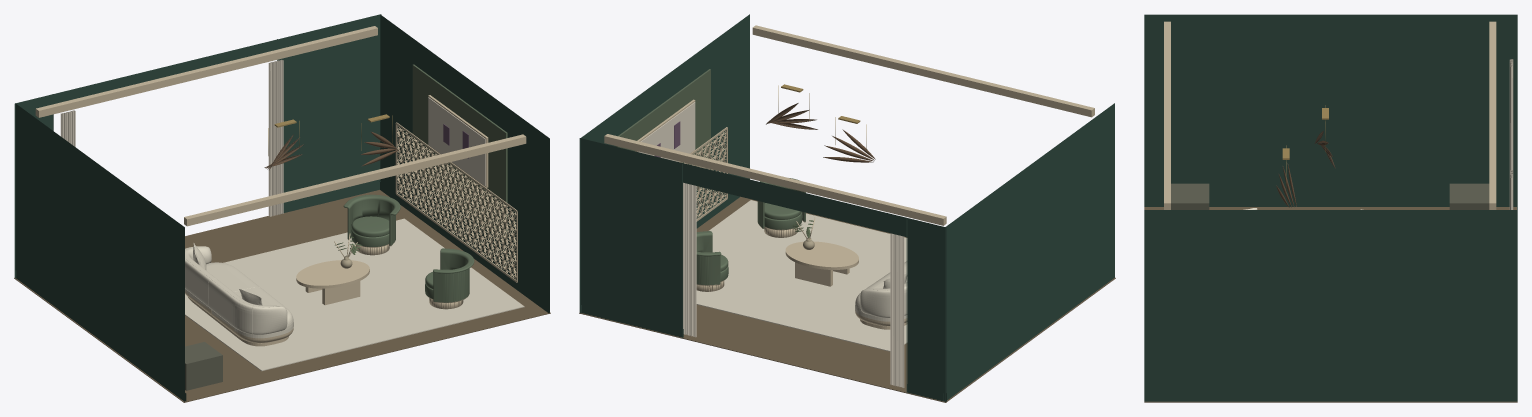
Rendered from great-3.glb.
The picture shows the model from 3 angles, left to right: view 1: azimuth 30°, elevation 25°; view 2: azimuth 150°, elevation 25°; view 3: azimuth 270°, elevation 25°; orthographic projection. The views are drawn at different scales.
Parts seen in each view (by area): view 1: DESIGN | great removable wall finish, DESIGN | Great room primary ground, DESIGN | great floor finish, DESIGN | Kumiko | Great room low craft datum, DESIGN | Great room sofa facing conversation, DESIGN | Garden salon fabric wall field, DESIGN | Garden salon perimeter timber, DESIGN | Garden salon perimeter timber.001, DESIGN | Required Bellustar swivel chair two, DESIGN | Textile artwork.002, DESIGN | Required Bellustar swivel chair one, DESIGN | Great room soft window edge.001 (+5 smaller); view 2: DESIGN | great removable wall finish, DESIGN | Great room primary ground, DESIGN | great floor finish, DESIGN | Garden salon perimeter timber.001, DESIGN | Garden salon perimeter timber, DESIGN | Garden salon fabric wall field, DESIGN | Great room soft window edge, DESIGN | Great room soft window edge.001, DESIGN | Great room sofa facing conversation, DESIGN | Great room conversation table top, DESIGN | Required Bellustar swivel chair two, DESIGN | Textile artwork.002 (+5 smaller); view 3: DESIGN | great removable wall finish, DESIGN | great floor finish, DESIGN | Garden salon perimeter timber.001, DESIGN | Garden salon perimeter timber, DESIGN | Great room low stone display.001, DESIGN | Great room low stone display, DESIGN | Great room soft window edge, DESIGN | Required Flou pendant 2.
Boxes of the visible parts, x1,y1,x2,y2 form: DESIGN | great removable wall finish: (14, 14, 549, 401); DESIGN | Great room primary ground: (185, 218, 524, 371); DESIGN | great floor finish: (14, 190, 550, 402); DESIGN | Kumiko | Great room low craft datum: (395, 122, 517, 282); DESIGN | Great room sofa facing conversation: (185, 243, 293, 346); DESIGN | Garden salon fabric wall field: (412, 64, 507, 242); DESIGN | Garden salon perimeter timber: (184, 134, 526, 226); DESIGN | Garden salon perimeter timber.001: (35, 26, 377, 117); DESIGN | Required Bellustar swivel chair two: (343, 194, 400, 255); DESIGN | Textile artwork.002: (428, 97, 485, 186); DESIGN | Required Bellustar swivel chair one: (425, 248, 474, 309); DESIGN | Great room soft window edge.001: (268, 59, 283, 216); DESIGN | great removable wall finish: (579, 14, 1114, 401); DESIGN | Great room primary ground: (696, 200, 907, 351); DESIGN | great floor finish: (579, 196, 1115, 402); DESIGN | Garden salon perimeter timber.001: (604, 134, 946, 225); DESIGN | Garden salon perimeter timber: (752, 25, 1094, 117); DESIGN | Garden salon fabric wall field: (616, 69, 710, 189); DESIGN | Great room soft window edge: (890, 233, 904, 387); DESIGN | Great room soft window edge.001: (683, 182, 696, 337); DESIGN | Great room sofa facing conversation: (855, 261, 907, 329); DESIGN | Great room conversation table top: (785, 241, 858, 269); DESIGN | Required Bellustar swivel chair two: (696, 231, 728, 291); DESIGN | Textile artwork.002: (638, 102, 695, 161); DESIGN | great removable wall finish: (1144, 14, 1517, 401); DESIGN | great floor finish: (1144, 207, 1517, 402); DESIGN | Garden salon perimeter timber.001: (1489, 21, 1496, 209); DESIGN | Garden salon perimeter timber: (1164, 21, 1170, 209); DESIGN | Great room low stone display.001: (1449, 183, 1489, 209); DESIGN | Great room low stone display: (1171, 183, 1209, 209); DESIGN | Great room soft window edge: (1509, 59, 1513, 170); DESIGN | Required Flou pendant 2: (1276, 163, 1296, 207).
Bounding box in the file's own units: 6 × 2.74 × 4.82.
